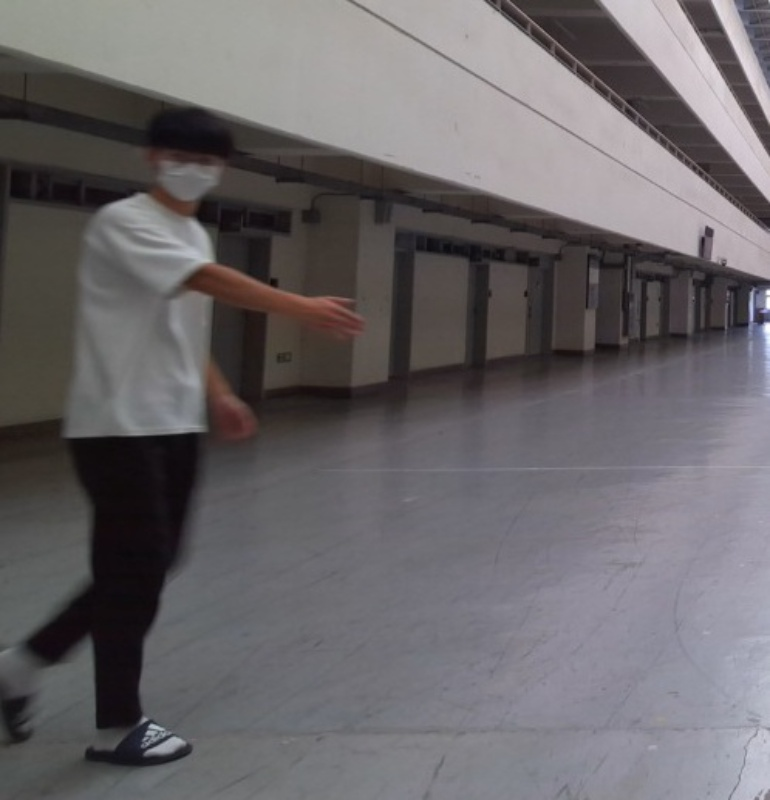person: (7, 98, 371, 769)
